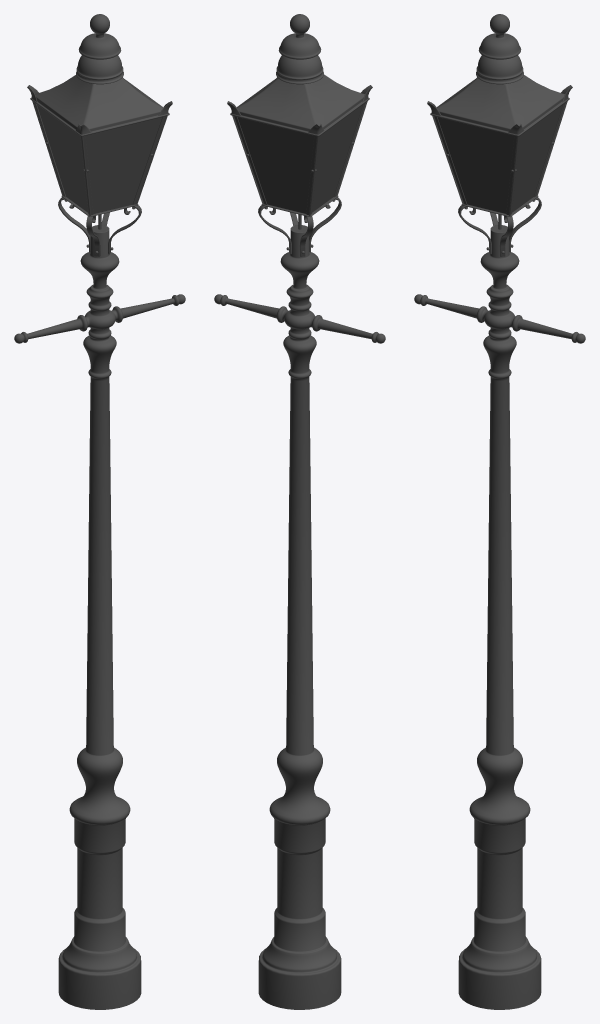
File: street_lamp_01_1k.glb
The picture shows the model from 3 angles, left to right: view 1: azimuth 30°, elevation 25°; view 2: azimuth 150°, elevation 25°; view 3: azimuth 330°, elevation 25°; orthographic projection.
Visible parts, largest first — view 1: street_lamp_01; view 2: street_lamp_01; view 3: street_lamp_01.
Boxes of the visible parts, left/top/right/bottom form: street_lamp_01: left=14, top=14, right=185, bottom=1009; street_lamp_01: left=214, top=14, right=385, bottom=1009; street_lamp_01: left=414, top=14, right=585, bottom=1009.
Size of the model in its own units: 0.7043 by 3.87 by 0.3865.
3 materials, 3 textured.
